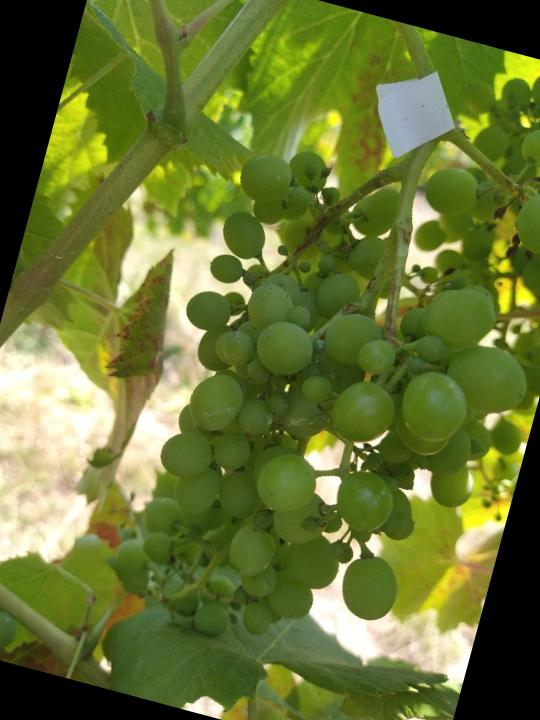grape: (93, 45, 540, 703)
